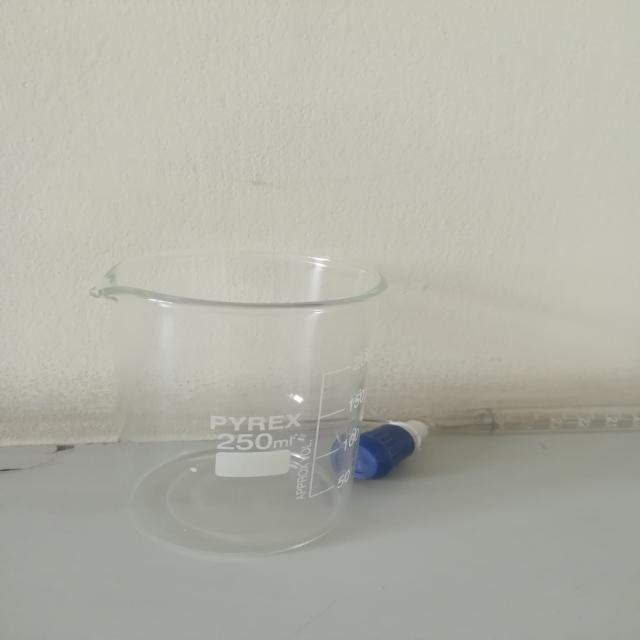Beaker: (54, 215, 420, 568)
